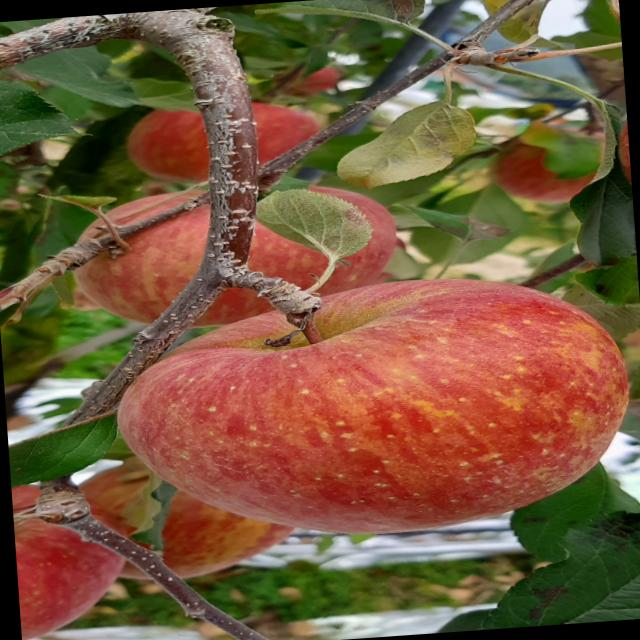fresh: (74, 254, 640, 563)
